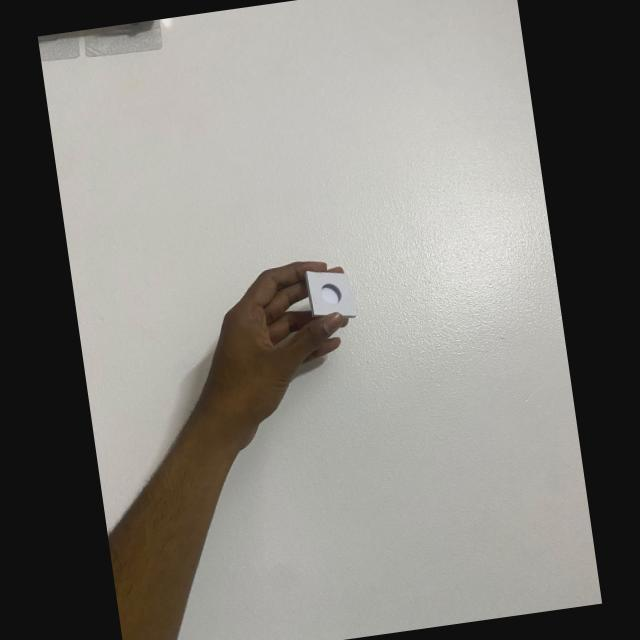RASPBERY PI CAM ENCLOSURE: (304, 265, 358, 324)
